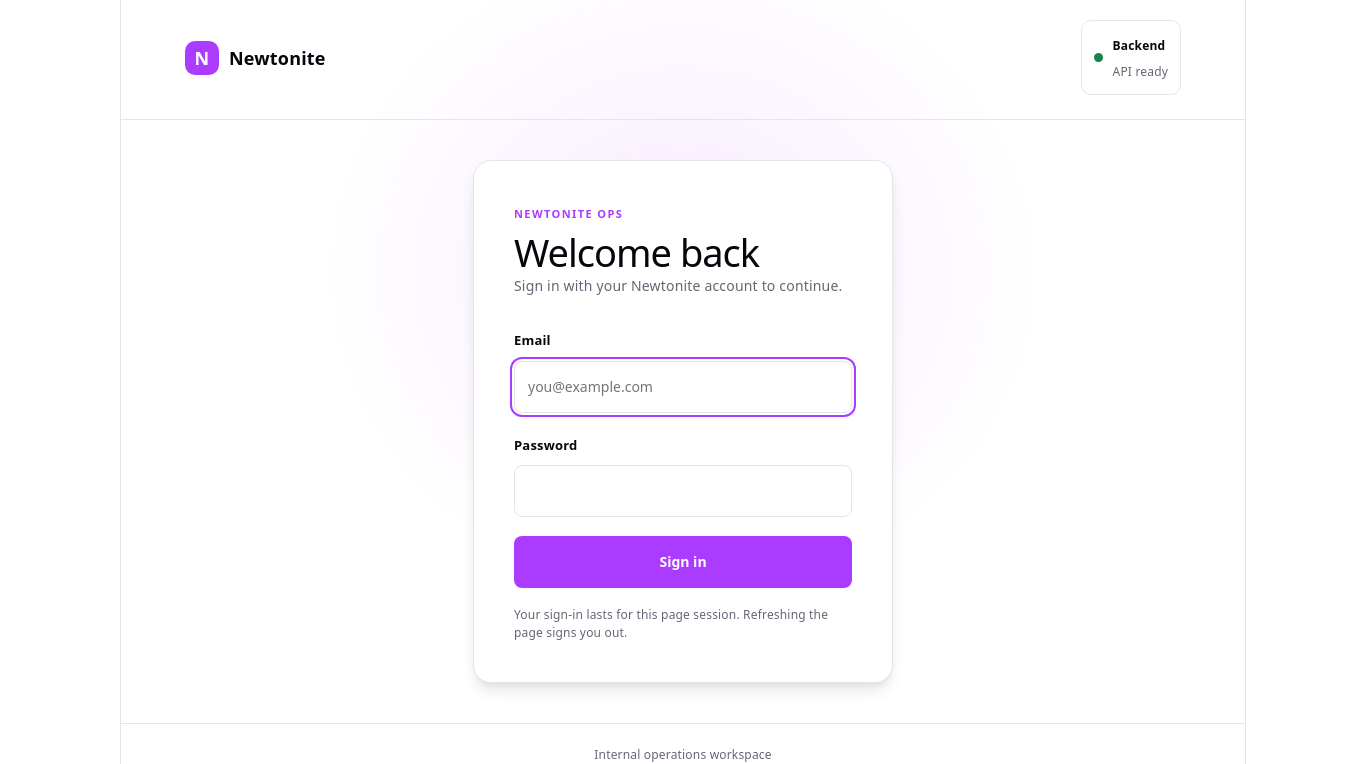
Test: work-item list and creation › renders initial results, sends filters/search to the API, and appends cursor pages
This screenshot has width=1366, height=764.
Type "morgan@example.test" into the field labelled "Email" at (683, 387), box [514,361,852,413]
Type "safe-test-password" into the password field labelled "Password" at (683, 491), box [514,465,852,517]
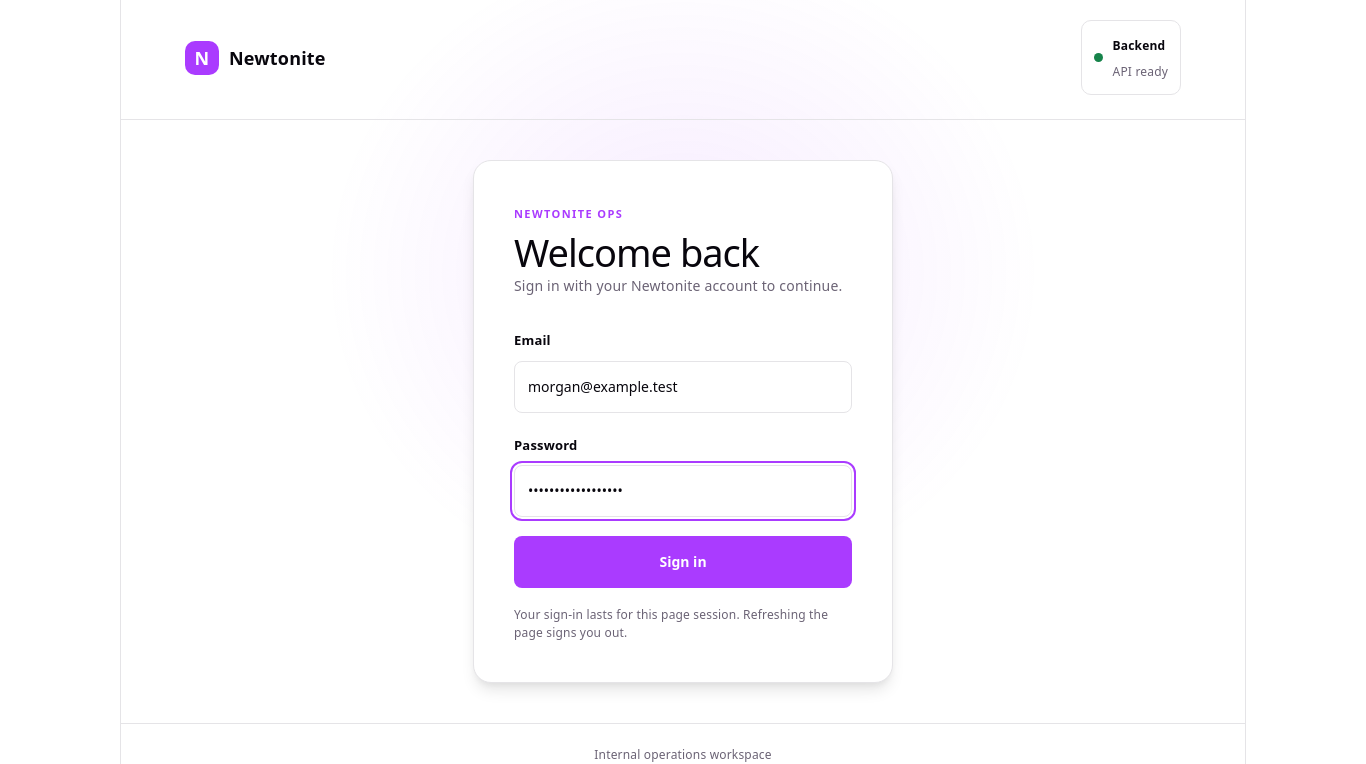
Click the button "Sign in" at (683, 562), box [514,536,852,588]
(page scrolled)
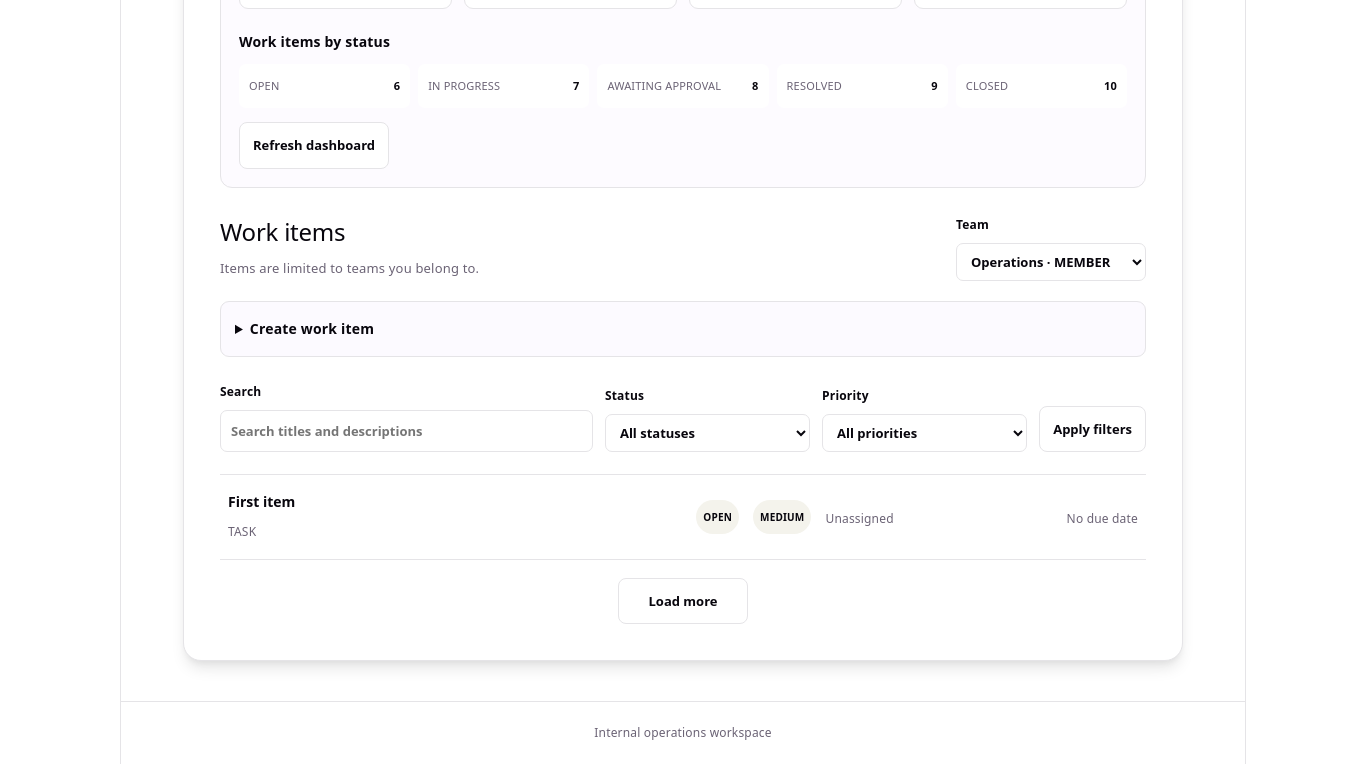
Expected: the button "First item" is shown, [228,489,295,515]
Type "urgent" into the search field named "Search work items" at (406, 431), box [220,410,593,452]
Select "Open" in the dropdown named "Filter by status" at (707, 433), box [605,414,810,452]
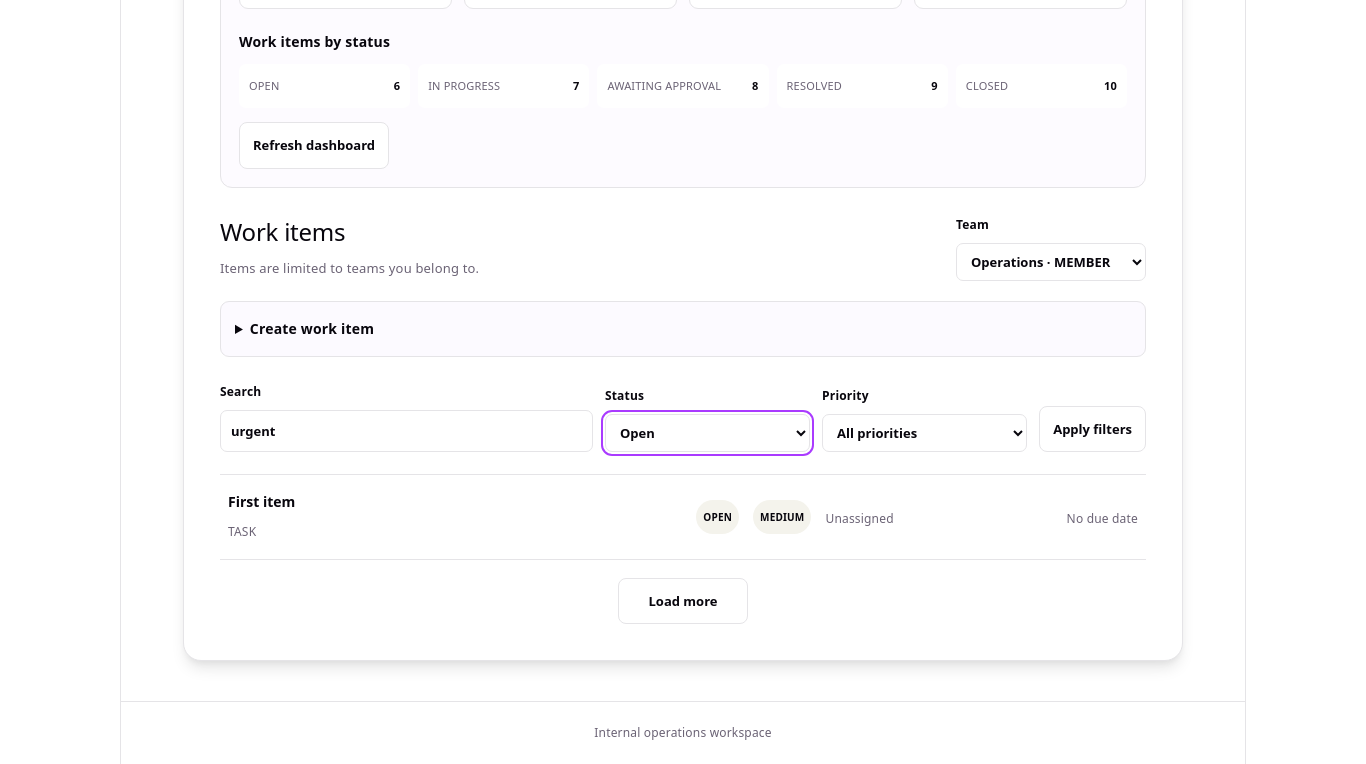
Select "High" in the dropdown named "Filter by priority" at (925, 433), box [822,414,1027,452]
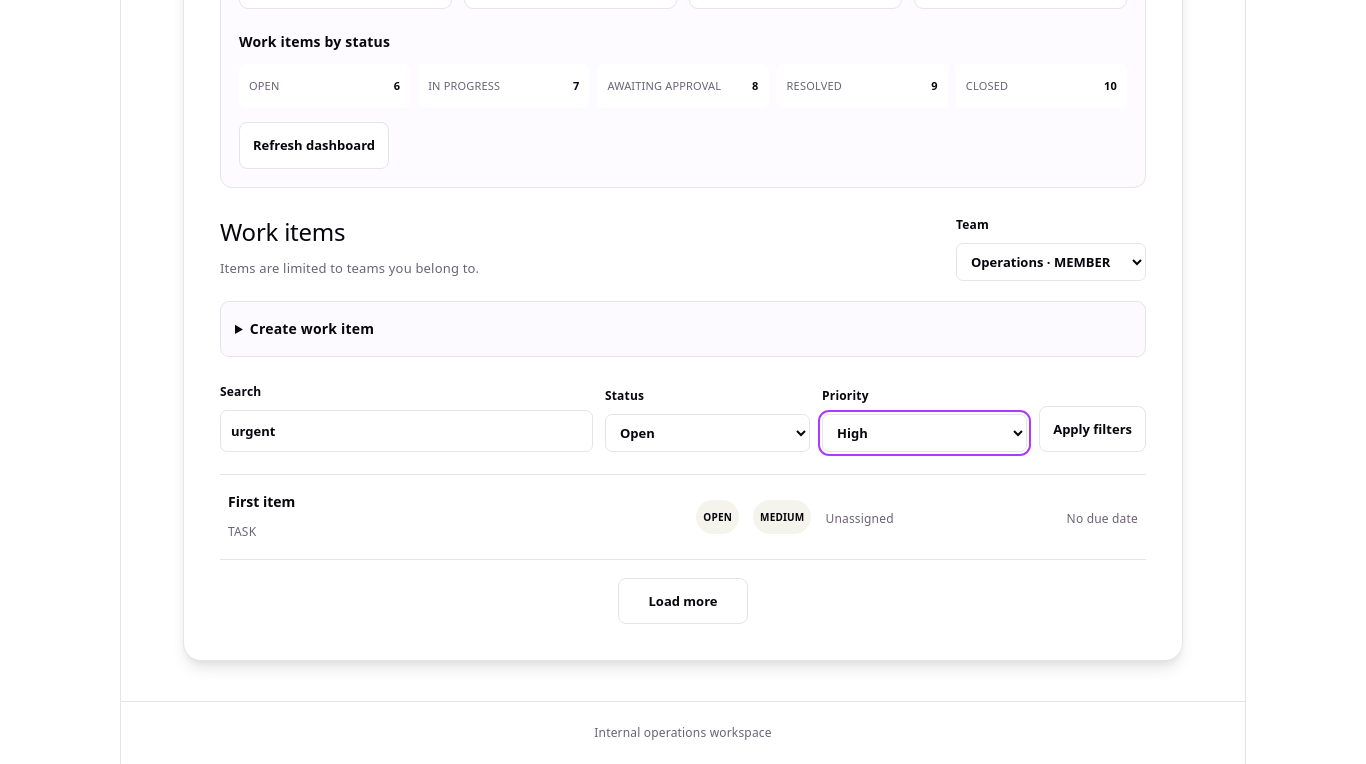
Click the button "Apply filters" at (1093, 429), box [1039,406,1146,452]
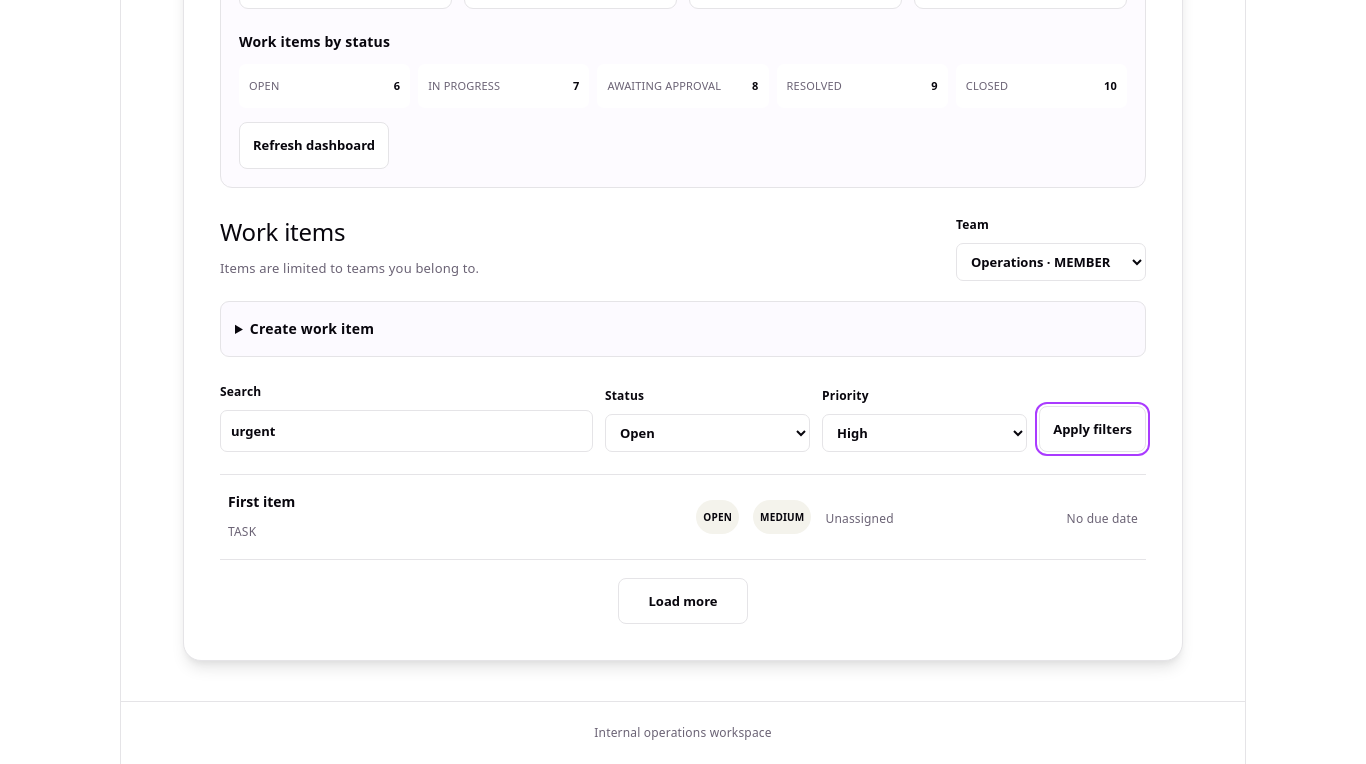
Expected: the text "OPEN" in the row of "IN PROGRESS" is shown, [249,78,280,93]
Click the button "Load more" at (683, 601), box [618,578,748,624]
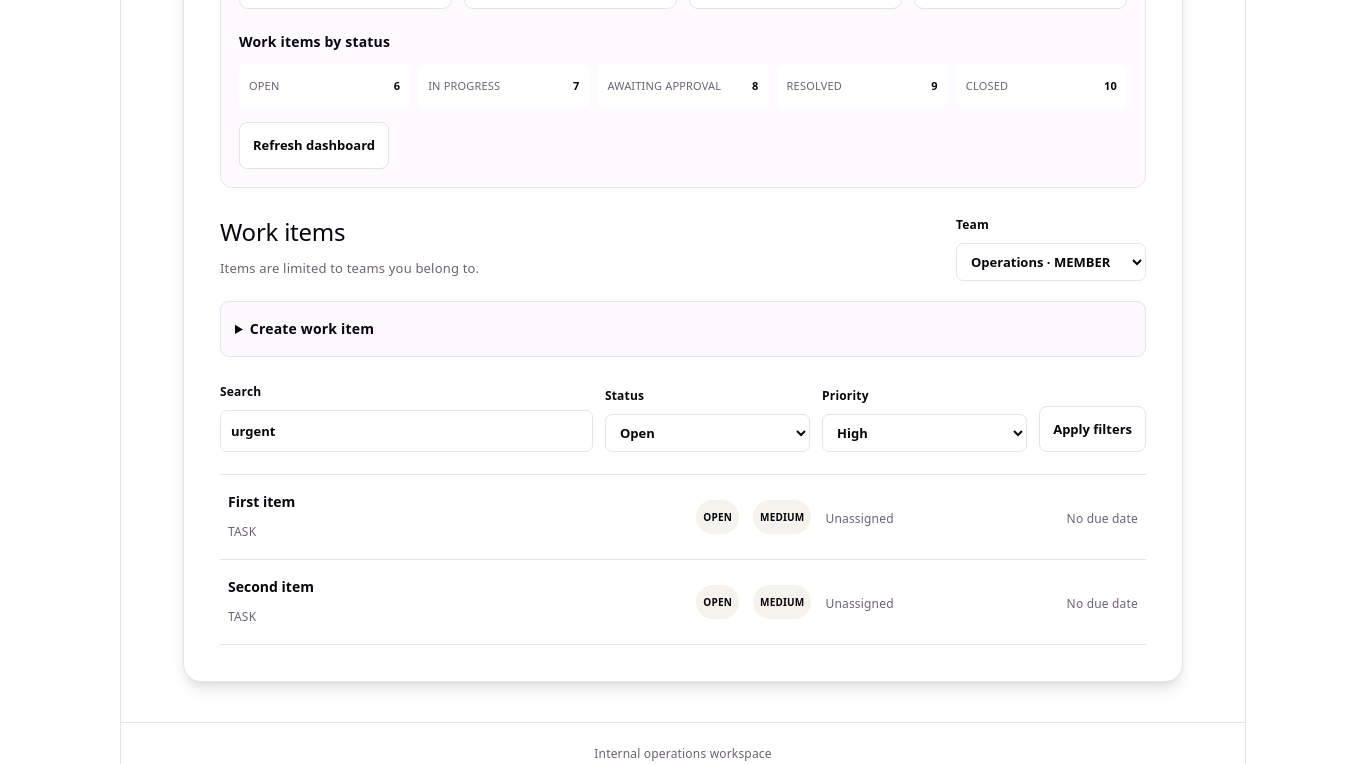
Expected: the number of buttons "First item" is 1, [228,489,295,515]
Expected: the button "Second item" is shown, [228,574,314,600]
